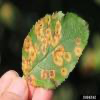Apple rust leaf: (16, 5, 91, 89)
